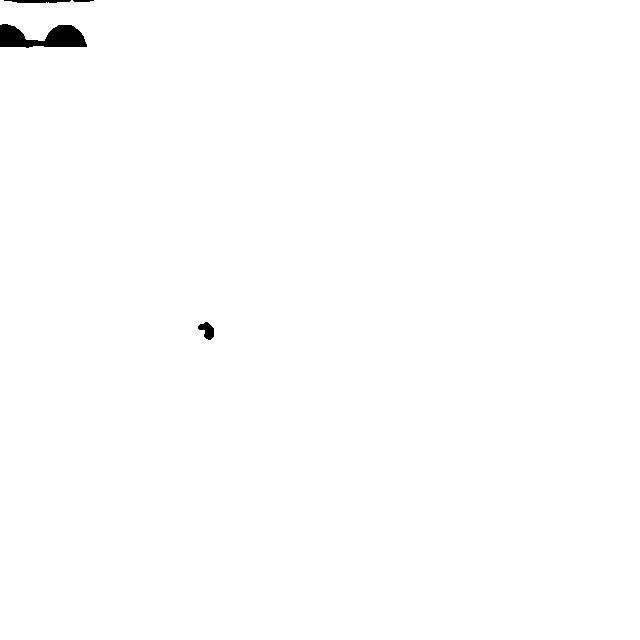copper: (188, 312, 223, 349)
short: (14, 30, 60, 57)
